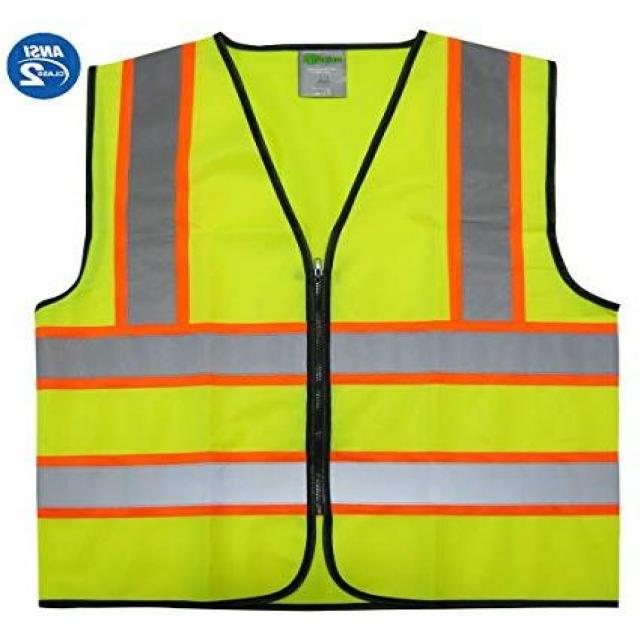Reflective-Jacket: (21, 12, 640, 640)
